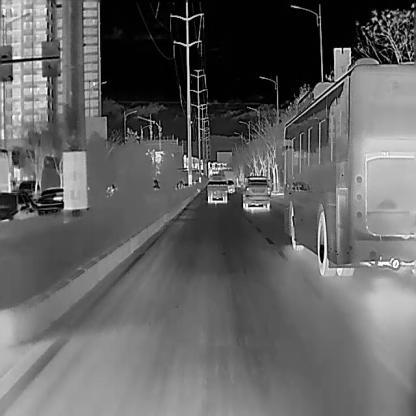car: (275, 56, 416, 276), (0, 190, 39, 221), (242, 176, 269, 208), (35, 187, 63, 214), (207, 173, 227, 202), (17, 180, 40, 202), (227, 178, 233, 192)
